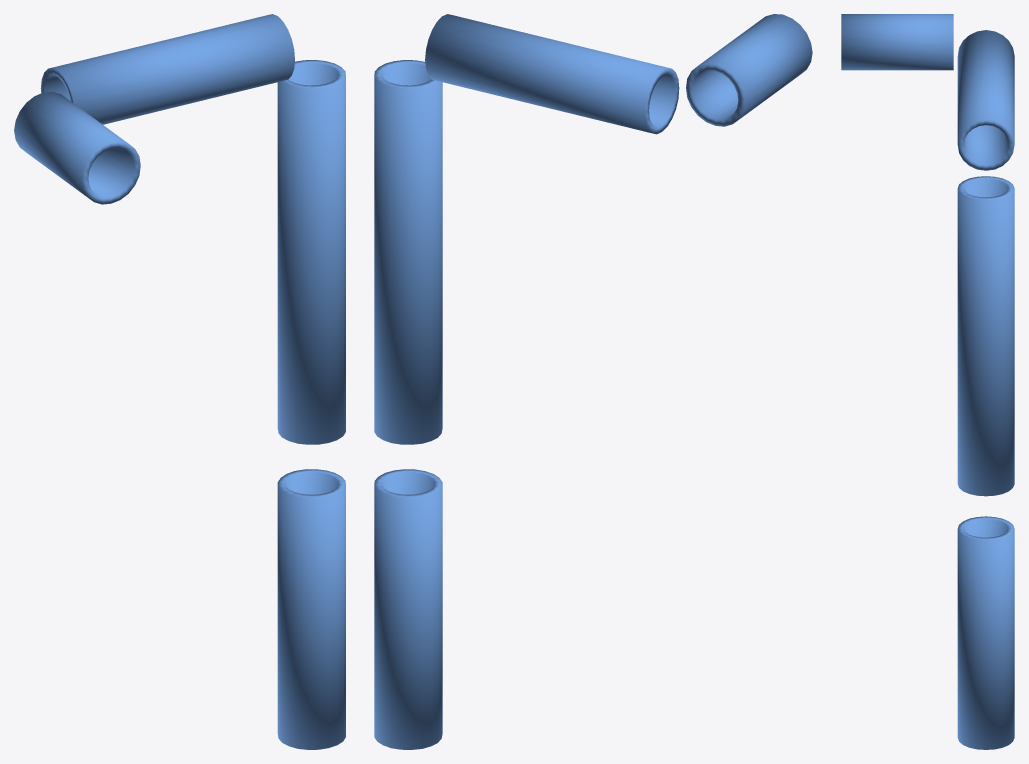
File: slab_pipes_supply__plumbing-pex_and_water-well_and_water_heater-attic_electric_tank.glb
3 views of the same model, side by side, from view 1: azimuth 30°, elevation 25°; view 2: azimuth 150°, elevation 25°; view 3: azimuth 270°, elevation 25° (orthographic). The views are drawn at different scales.
Visible parts, largest first — view 1: pipe_supply_manifold_feed__pex.903; view 2: pipe_supply_manifold_feed__pex.903; view 3: pipe_supply_manifold_feed__pex.903.
Boxes of the visible parts, left/top/right/bottom form: pipe_supply_manifold_feed__pex.903: left=14, top=14, right=345, bottom=749; pipe_supply_manifold_feed__pex.903: left=374, top=14, right=812, bottom=749; pipe_supply_manifold_feed__pex.903: left=841, top=14, right=1014, bottom=749.
Size of the model in its own units: 0.1302 by 0.2611 by 0.0677.
